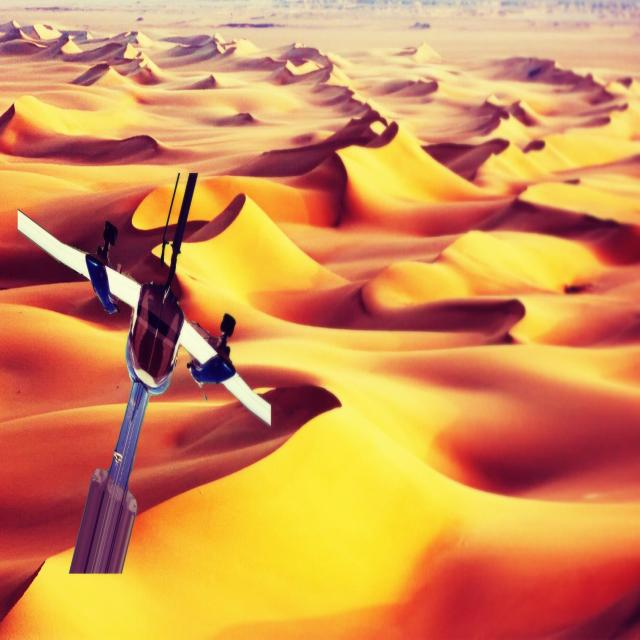airplane: (17, 170, 272, 576)
